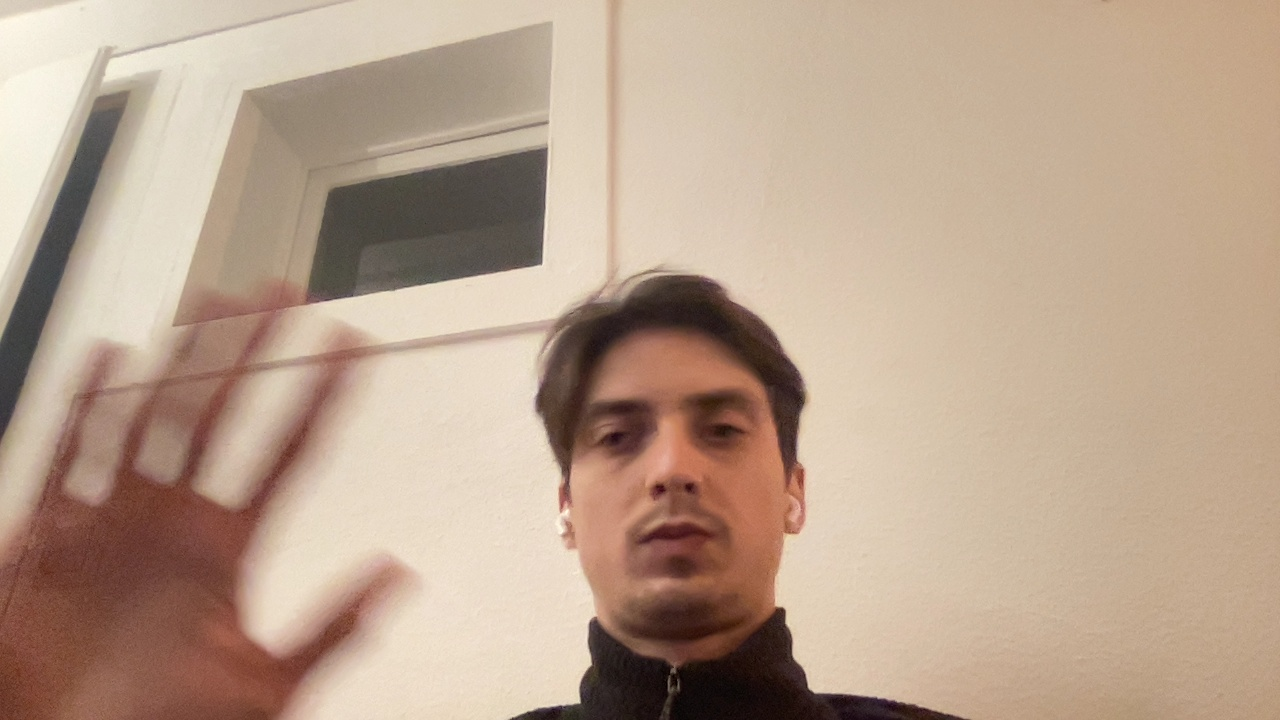Hello: (13, 244, 413, 720)
